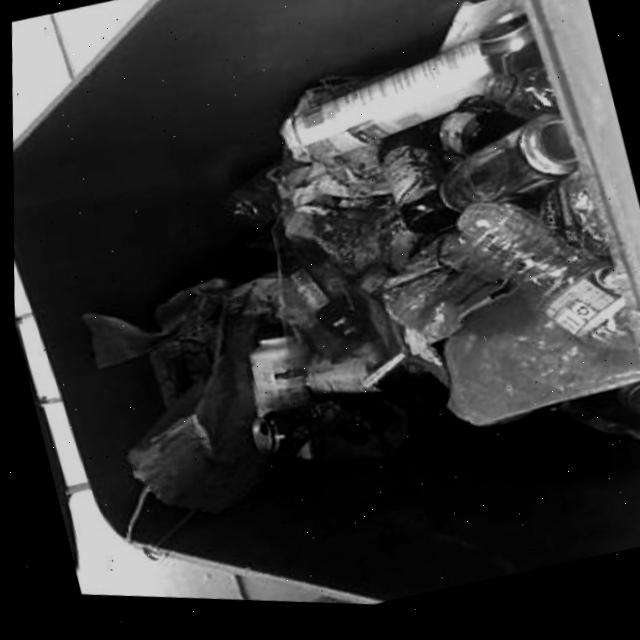Garbage: (82, 0, 640, 559)
Glass_bottle: (377, 136, 455, 240), (439, 117, 522, 161)
Plastic_bottle: (457, 209, 631, 355), (246, 331, 307, 423), (484, 73, 556, 126), (221, 169, 278, 234)
can: (438, 122, 574, 218), (480, 30, 539, 81), (613, 390, 640, 420)
